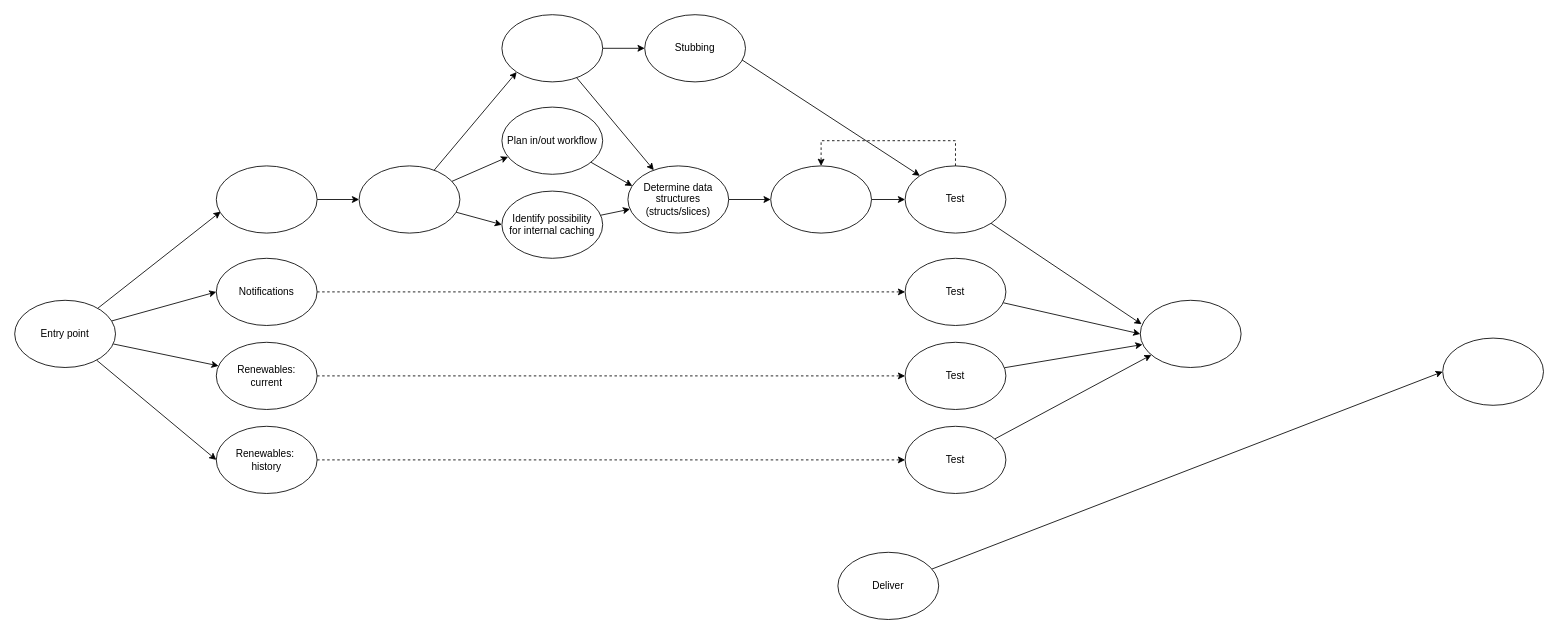
The diagram is 1558 pixels wide and 634 high, and some of its shapes have lost their labels. The centre of each missing label's shape, as x and y in pixels:
"Deploy" goes at point 1190,333.
"Find optimal endpoints for data" goes at point 552,48.
"Implement" goes at point 821,199.
"Map data requirements" goes at point 409,199.
"Peer review" goes at point 1493,371.
"Status" goes at point 266,199.
